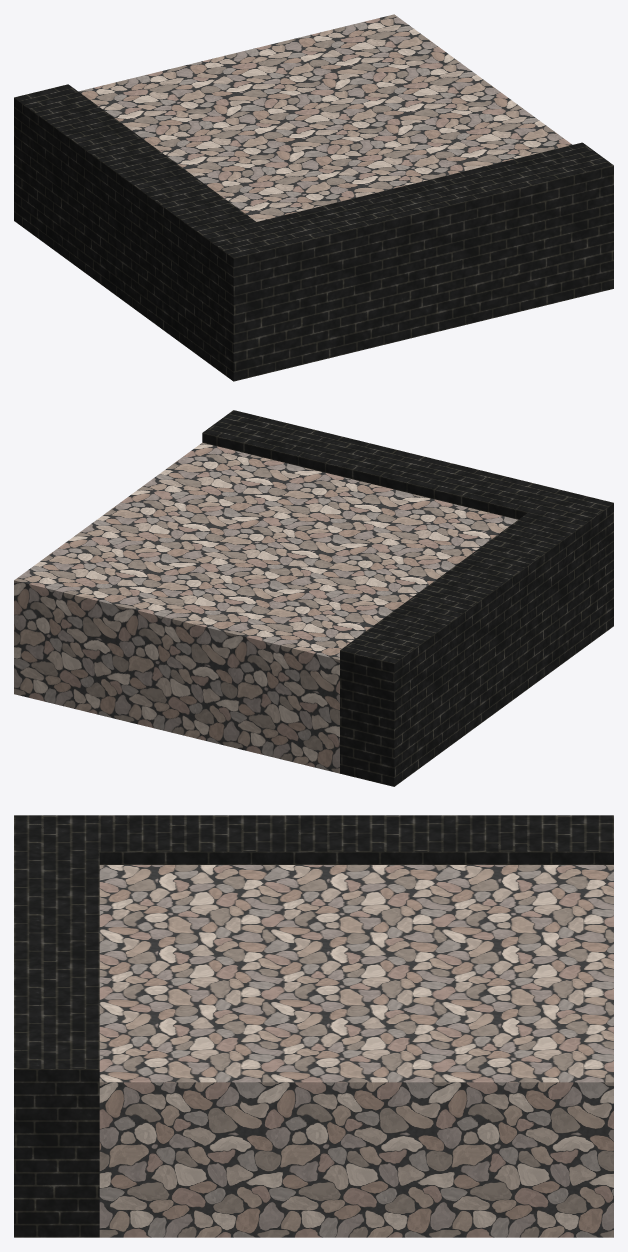
The model's file is cobblestone-corner.fbx.
3 renders of one model, top to bottom at view 1: azimuth 30°, elevation 25°; view 2: azimuth 150°, elevation 25°; view 3: azimuth 270°, elevation 25°, orthographic. The views are drawn at different scales.
Parts seen in each view (by area): view 1: cobblestone_corner; view 2: cobblestone_corner; view 3: cobblestone_corner.
Boxes of the visible parts, bbox=[...] form: cobblestone_corner: bbox=[14, 14, 613, 381]; cobblestone_corner: bbox=[14, 410, 613, 786]; cobblestone_corner: bbox=[14, 815, 613, 1237].
Size of the model in its own units: 350 by 108 by 350.
